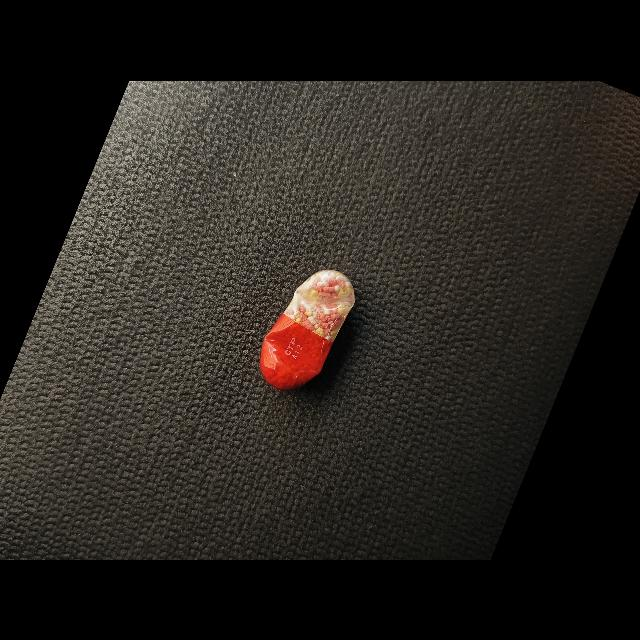Defective Capsule: (260, 269, 355, 390)
